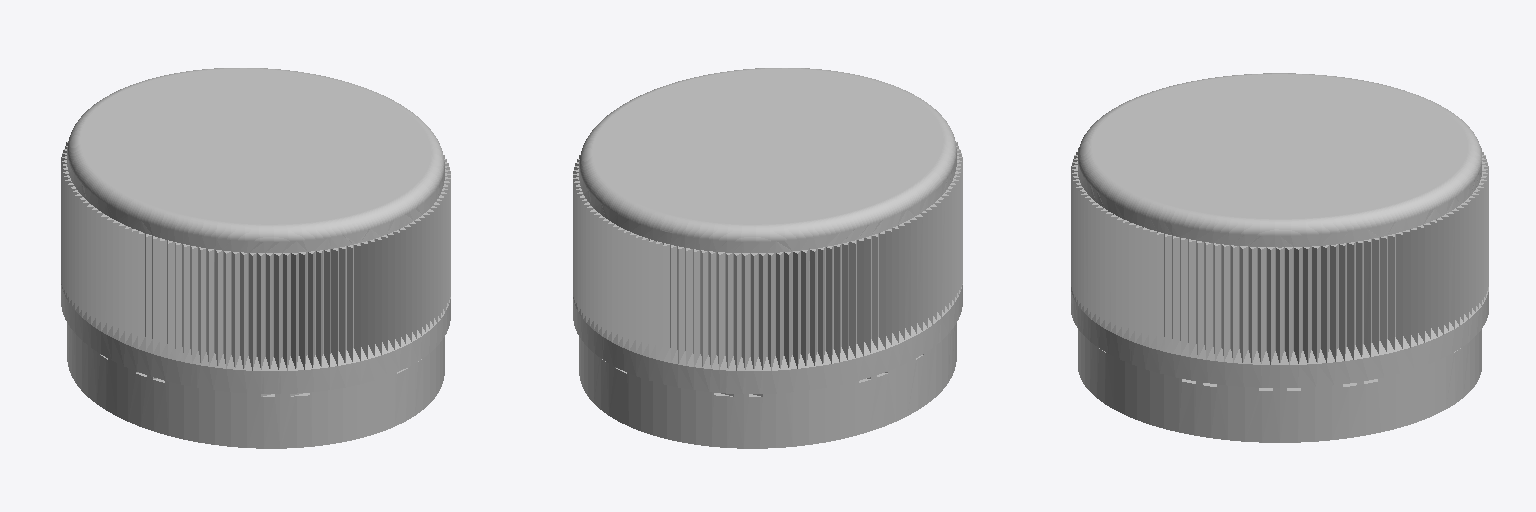
File: ShortBottleCap.obj
3 renders of one model, left to right at view 1: azimuth 30°, elevation 25°; view 2: azimuth 150°, elevation 25°; view 3: azimuth 270°, elevation 25°, orthographic.
Visible parts, largest first — view 1: bottle_cap_short; view 2: bottle_cap_short; view 3: bottle_cap_short.
Part boxes in pixels (left/top/right/bottom): bottle_cap_short: left=61, top=68, right=450, bottom=448; bottle_cap_short: left=573, top=68, right=962, bottom=448; bottle_cap_short: left=1071, top=73, right=1488, bottom=442.
Size of the model in its own units: 0.03 by 0.019 by 0.033.